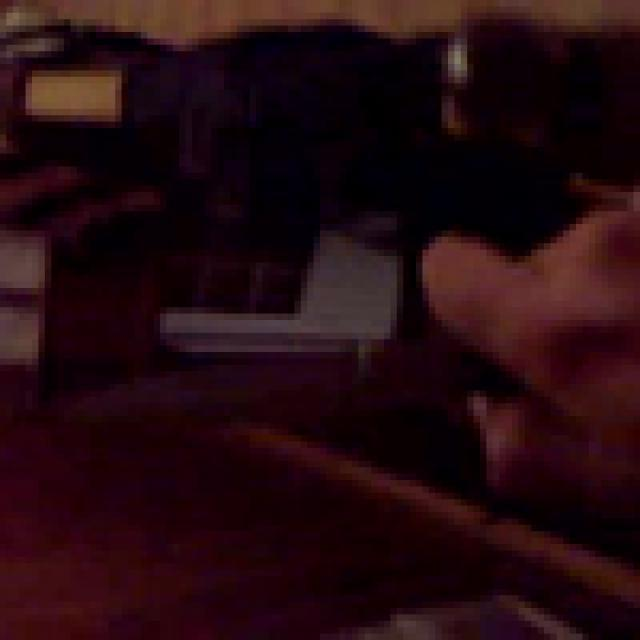knife: (96, 229, 492, 385)
